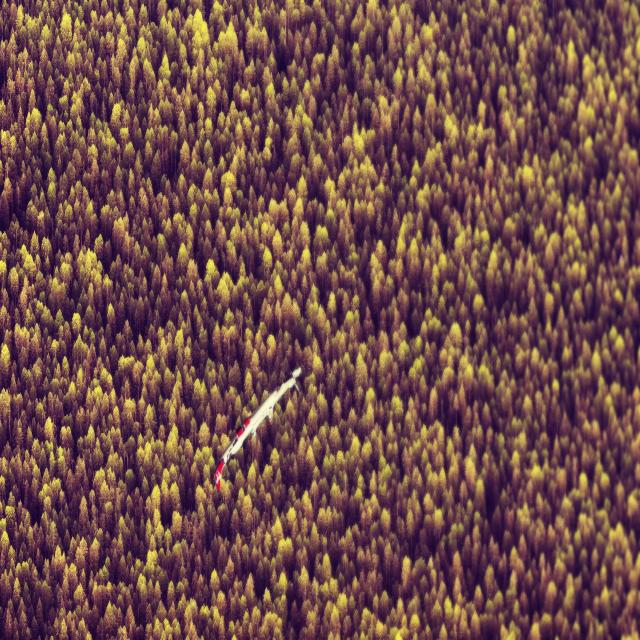airplane: (214, 366, 302, 491)
